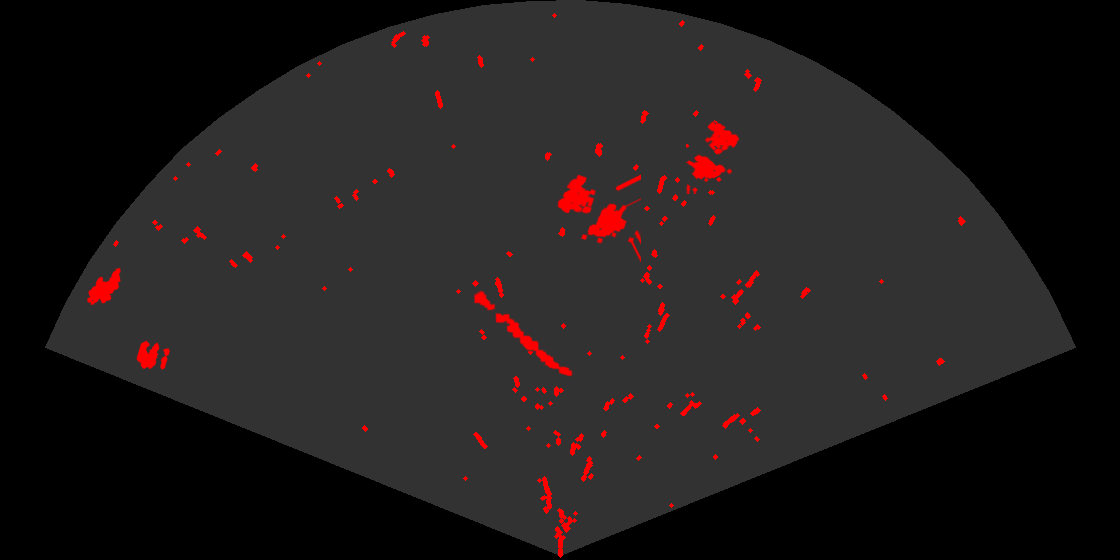AUV: (85, 266, 122, 307)
ball: (135, 339, 172, 371)
cage: (556, 173, 641, 264), (686, 120, 741, 194)
chain: (472, 289, 574, 378)
